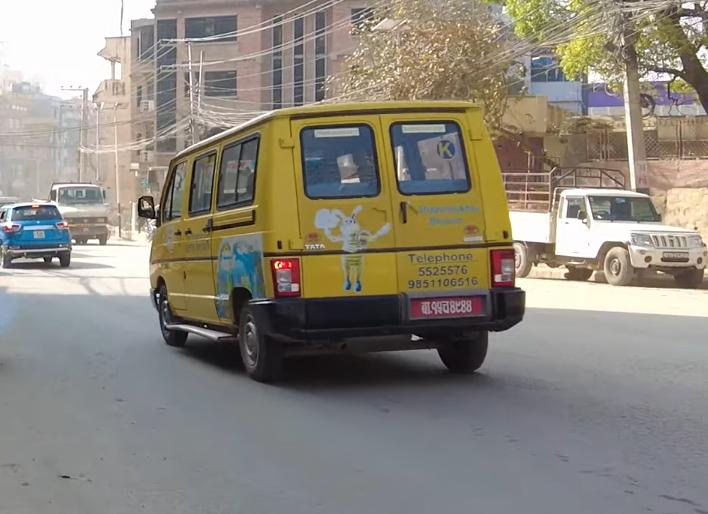car: (0, 198, 72, 272)
mini_truck: (38, 179, 113, 248)
school_bus: (135, 92, 529, 388)
transport_vehicle: (502, 160, 708, 294)
